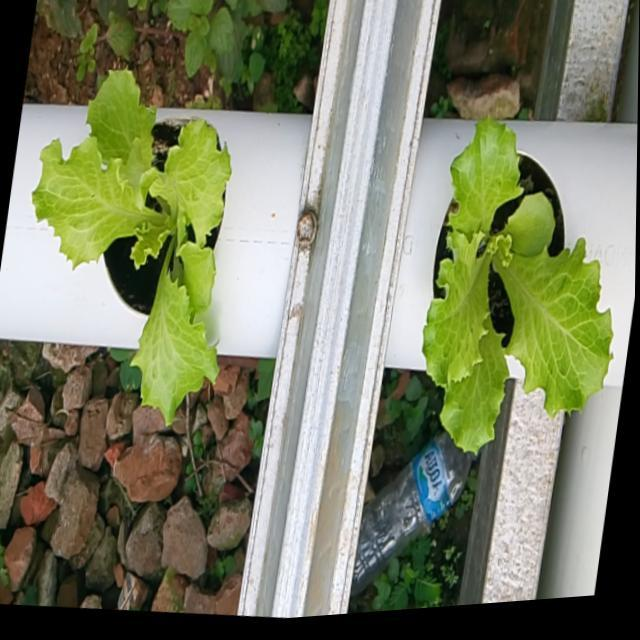Baby: (34, 69, 232, 423), (422, 115, 613, 453)
